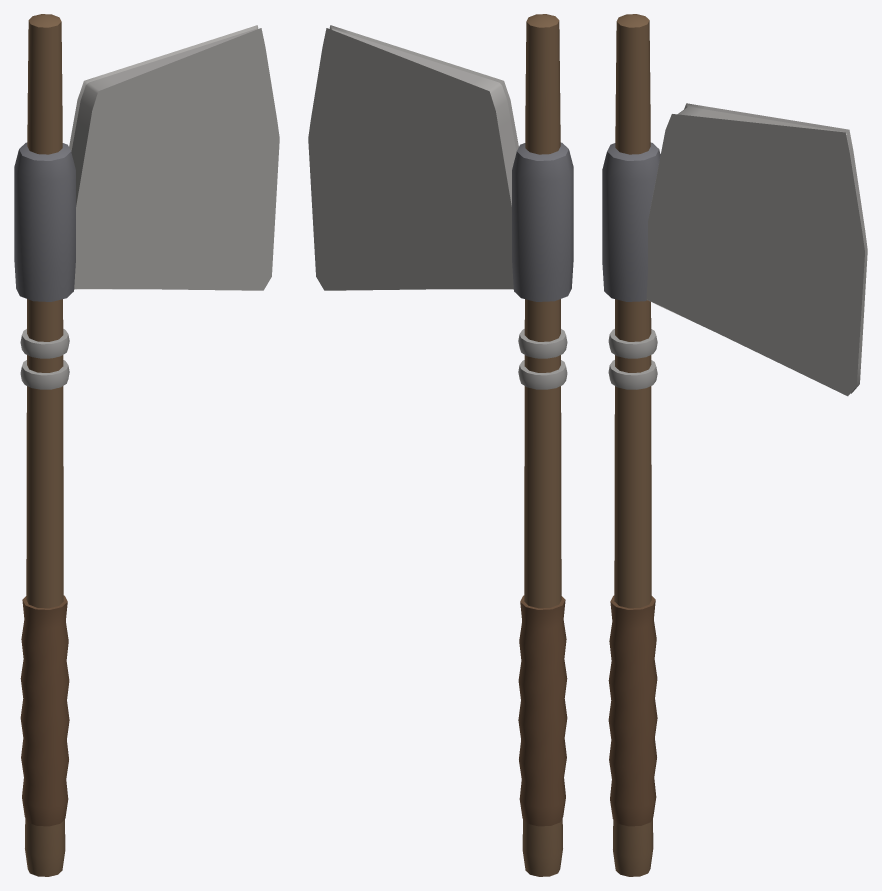
The model's file is bonecutter.glb.
3 views of the same model, side by side, from view 1: azimuth 30°, elevation 25°; view 2: azimuth 150°, elevation 25°; view 3: azimuth 330°, elevation 25° (orthographic).
Parts seen in each view (by area): view 1: bonecutter; view 2: bonecutter; view 3: bonecutter.
Boxes of the visible parts, bbox=[...] form: bonecutter: bbox=[14, 14, 279, 876]; bonecutter: bbox=[308, 14, 573, 876]; bonecutter: bbox=[602, 14, 867, 876].
Bounding box in the file's own units: 0.2631 × 0.825 × 0.0517.
